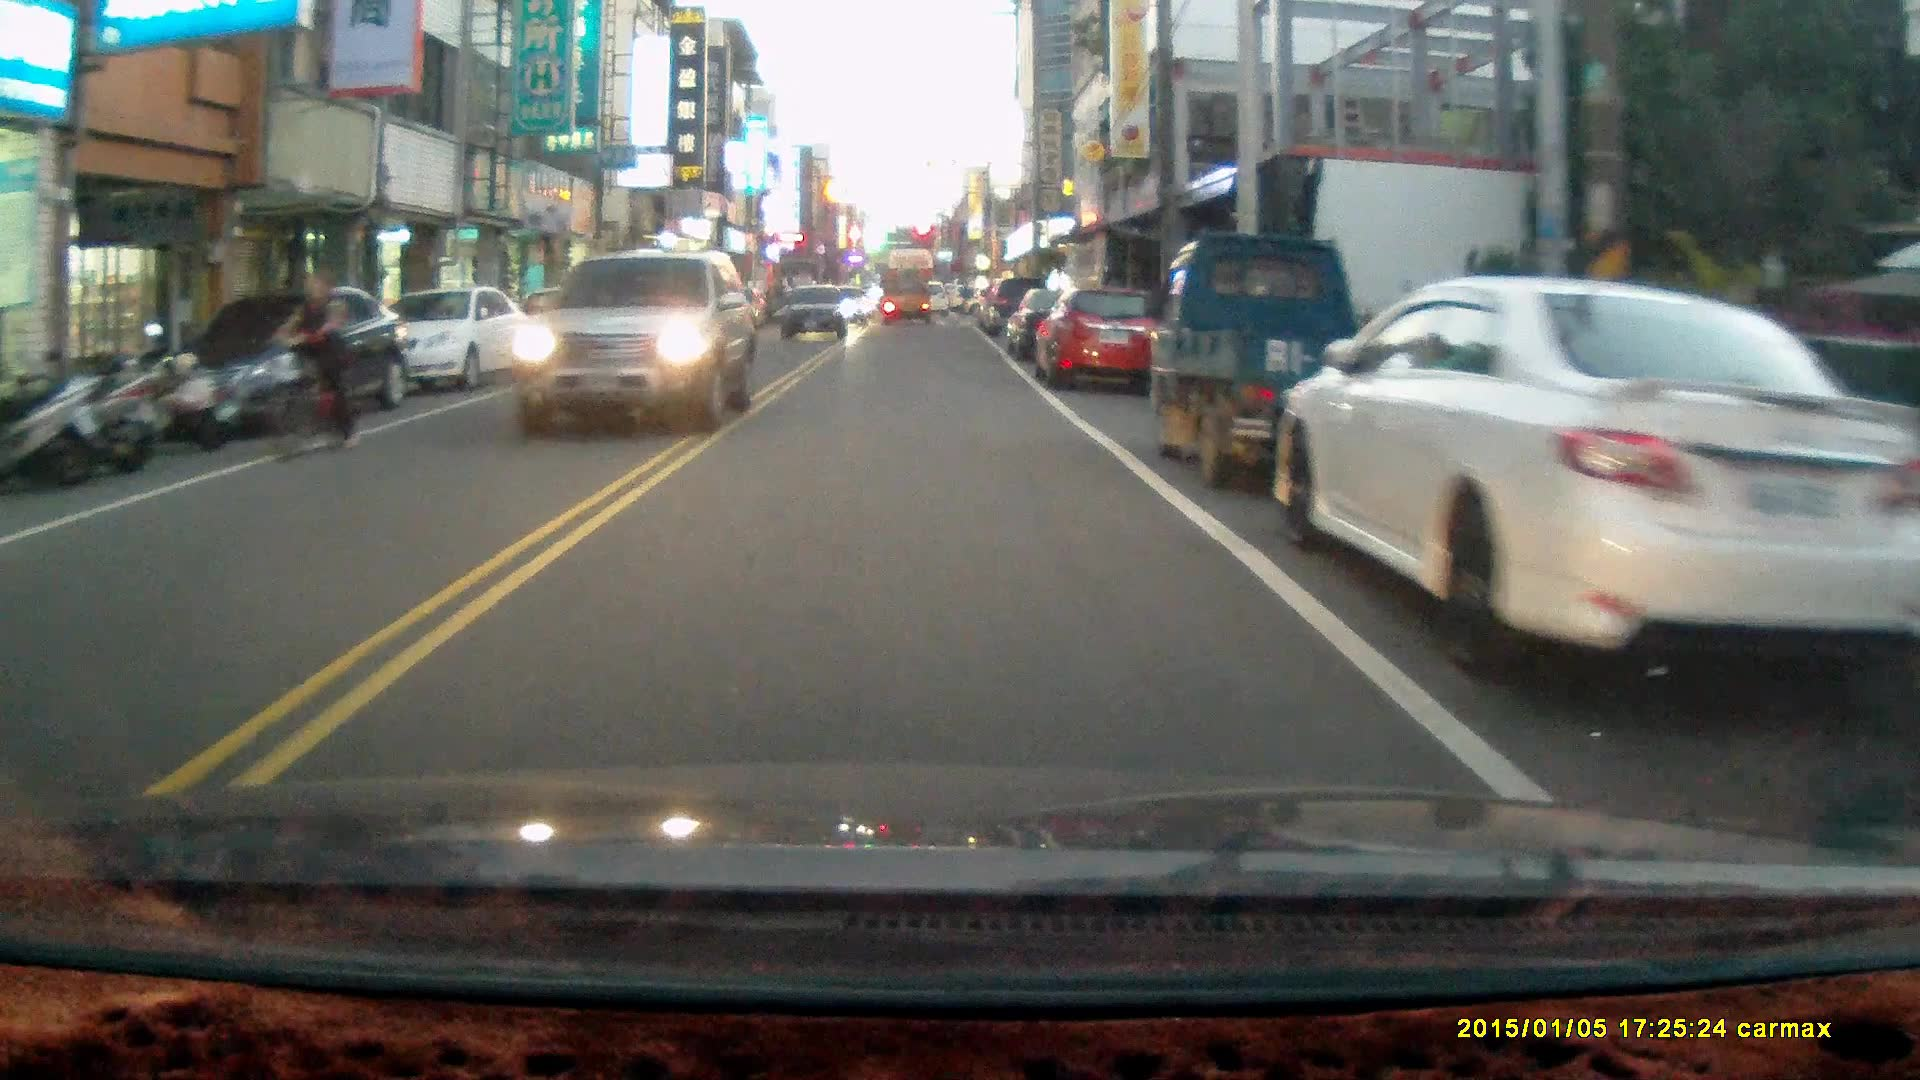rider: (264, 266, 359, 461)
vehicle: (1273, 275, 1906, 685), (1151, 230, 1423, 493), (507, 249, 758, 437), (158, 286, 402, 430), (331, 286, 519, 398), (1039, 288, 1164, 394), (777, 285, 850, 344), (880, 271, 933, 331)
